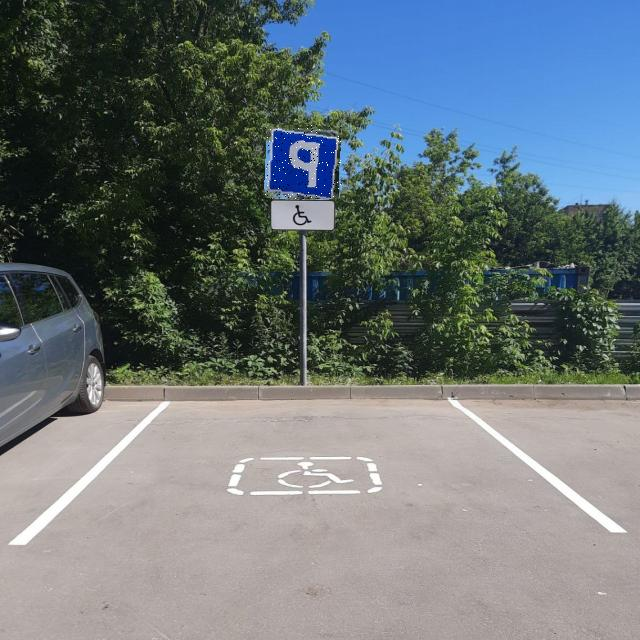parking: (265, 125, 341, 199)
